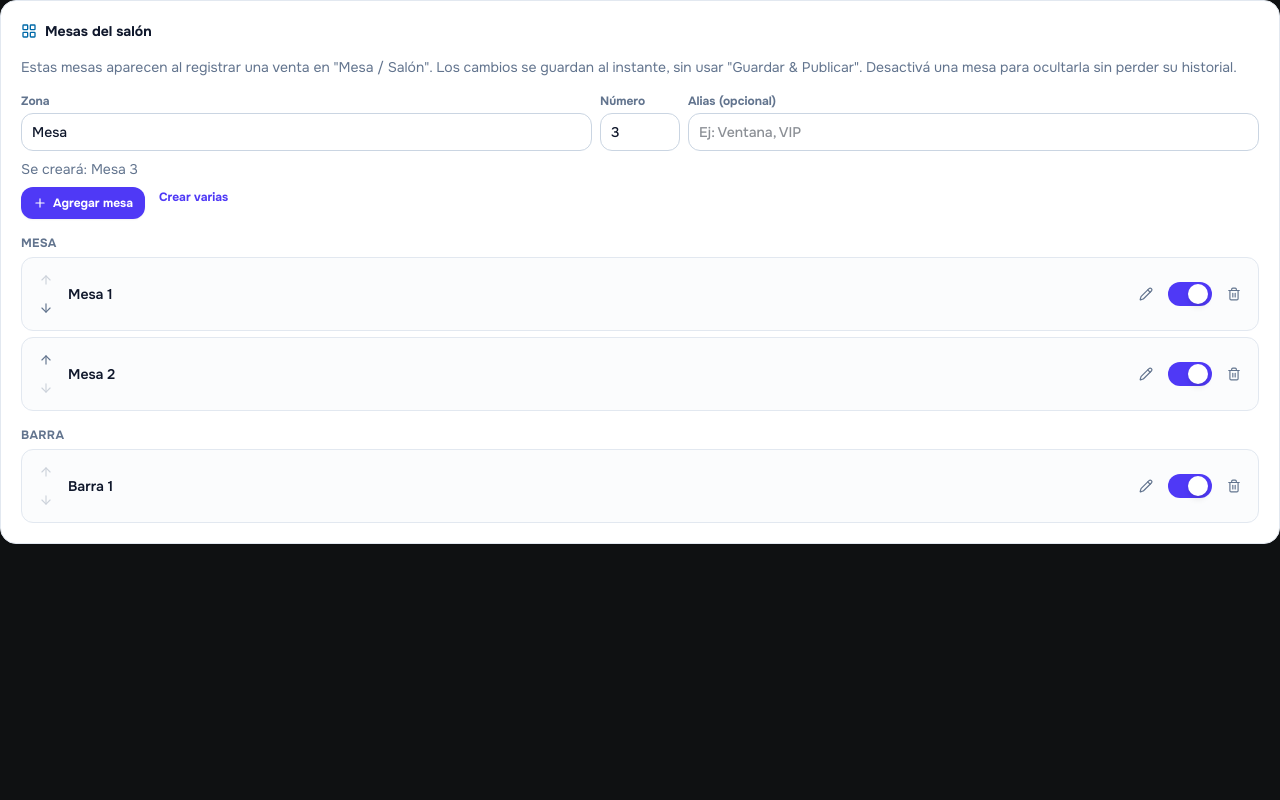
Test case: CustomizerTablesSection › suggests the most used zone and its next free number, recomputed when the zone changes
The width and height of the screenshot is (1280, 800).
Expected: the text "Mesa 1" is shown, 68,285 -> 113,303
Expected: the number field named "Número de la nueva mesa" holds "3", 600,113 -> 680,151
Replace the text in the field named "Zona de la nueva mesa" with "barra" at point(306, 132), box 21,113 -> 592,151
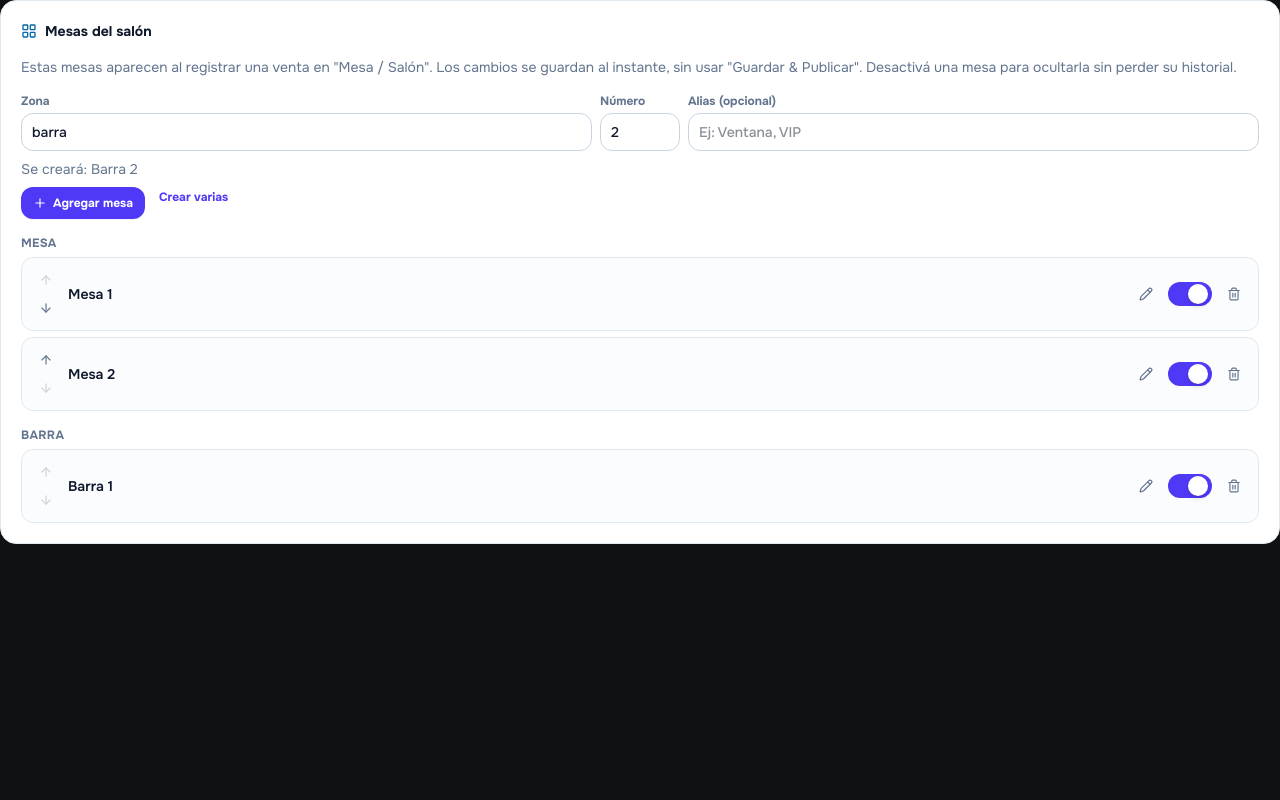
Result: the number field named "Número de la nueva mesa" holds "2" at 600,113 -> 680,151
Replace the text in the field named "Zona de la nueva mesa" with "Terraza" at point(306, 132), box 21,113 -> 592,151
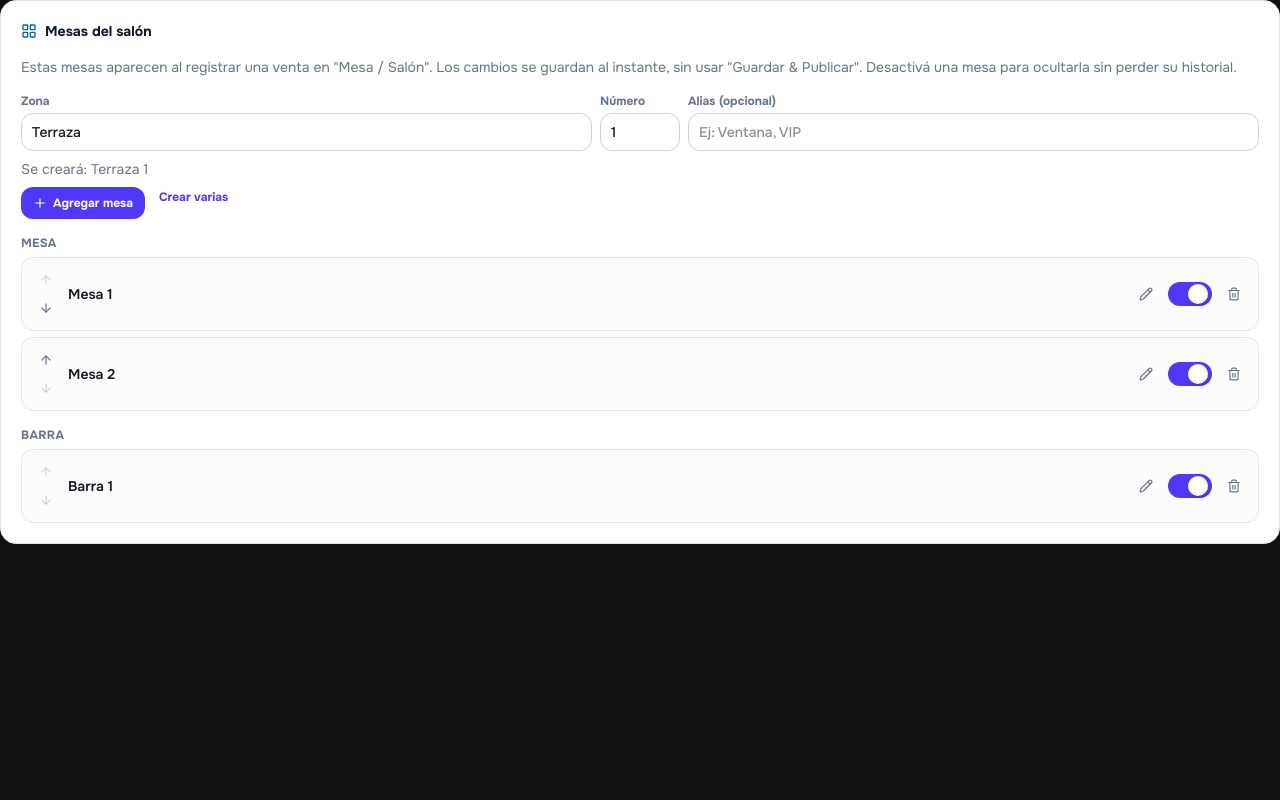
Result: the number field named "Número de la nueva mesa" holds "1" at 600,113 -> 680,151
